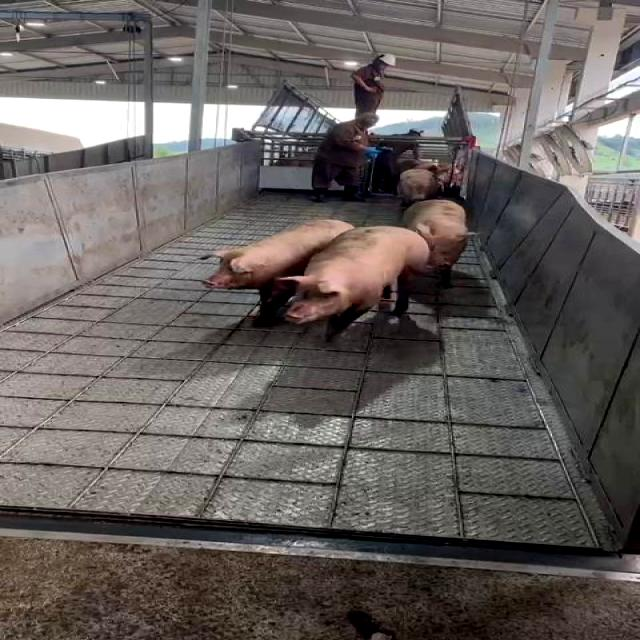pig: (276, 226, 427, 339), (204, 220, 351, 324), (403, 200, 470, 285), (397, 169, 437, 205)
